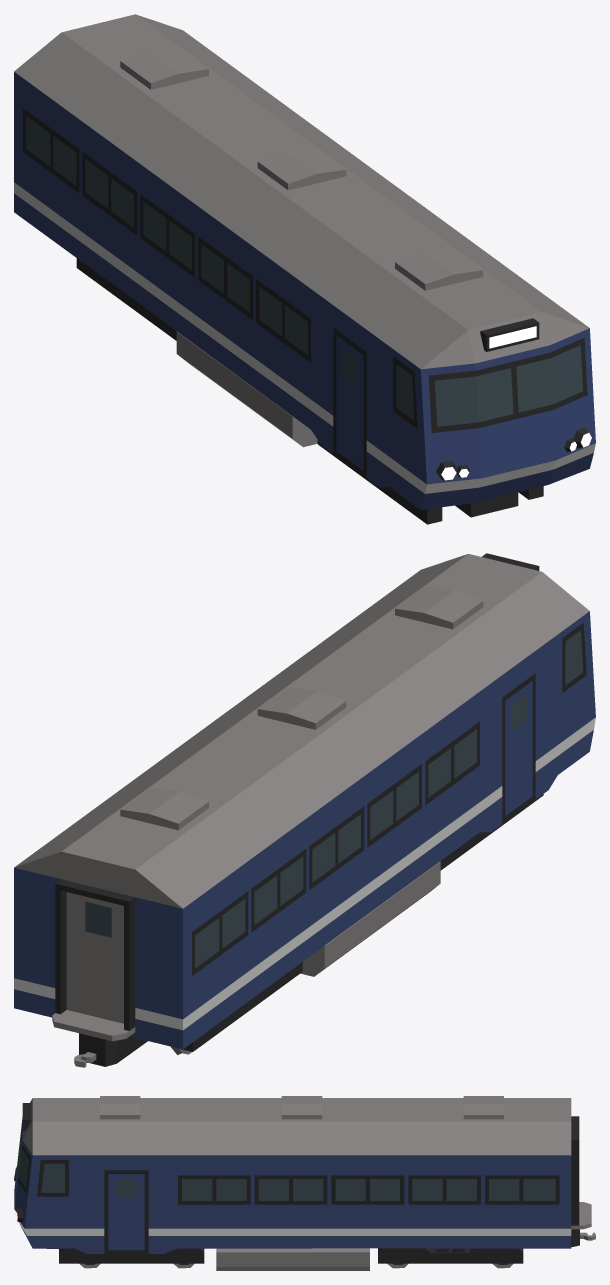
The model's file is vehicles_train-passenger.fbx.
3 renders of one model, top to bottom at view 1: azimuth 30°, elevation 25°; view 2: azimuth 150°, elevation 25°; view 3: azimuth 270°, elevation 25°, orthographic. The views are drawn at different scales.
Visible parts, largest first — view 1: train_passenger_base, train_passenger_base_wheel_frame_F, train_passenger_base_wheel_frame_B; view 2: train_passenger_base, train_passenger_base_wheel_frame_B; view 3: train_passenger_base, train_passenger_base_wheel_frame_B, train_passenger_base_wheel_frame_F.
Part boxes in pixels (x1=…): train_passenger_base: x1=14, y1=14, x2=595, y2=517; train_passenger_base_wheel_frame_F: x1=317, y1=440, x2=543, y2=524; train_passenger_base_wheel_frame_B: x1=76, y1=258, x2=176, y2=340; train_passenger_base: x1=14, y1=553, x2=595, y2=1067; train_passenger_base_wheel_frame_B: x1=178, y1=962, x2=302, y2=1051; train_passenger_base: x1=14, y1=1096, x2=595, y2=1270; train_passenger_base_wheel_frame_B: x1=378, y1=1248, x2=523, y2=1263; train_passenger_base_wheel_frame_F: x1=59, y1=1248, x2=204, y2=1263.
Bounding box in the file's own units: 44.41 × 57.85 × 200.
